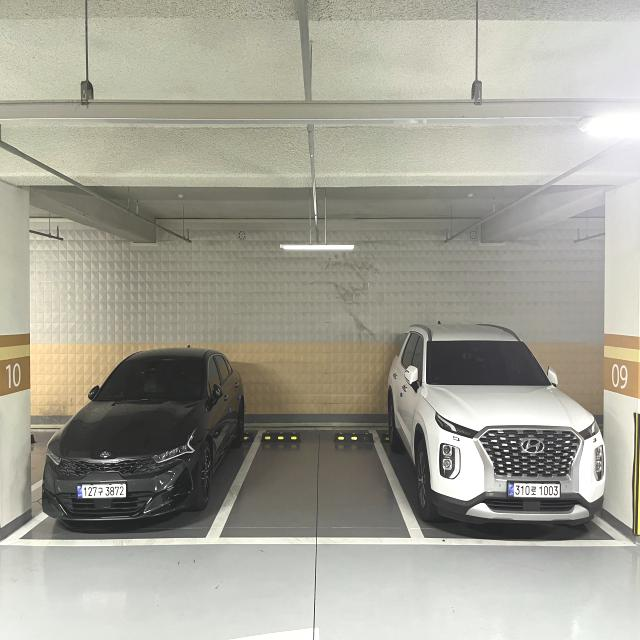car: (402, 311, 617, 559), (39, 339, 212, 559)
free: (197, 419, 432, 549)
